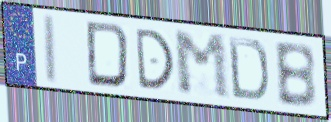B: (272, 41, 319, 111)
D: (84, 19, 132, 91), (226, 34, 271, 104), (133, 26, 176, 91)
I: (43, 12, 60, 87)
M: (171, 30, 234, 103)
